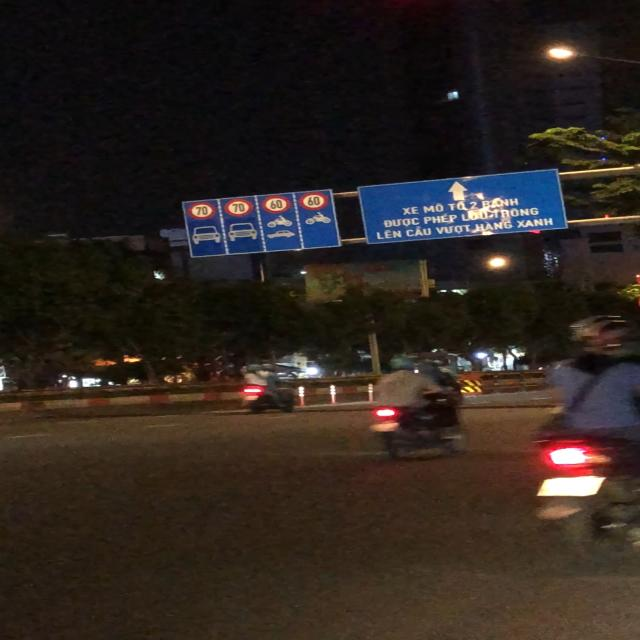Bien bao toc do toi da cho phep: (258, 195, 294, 216), (296, 192, 331, 211), (222, 198, 256, 217), (186, 200, 214, 222)
